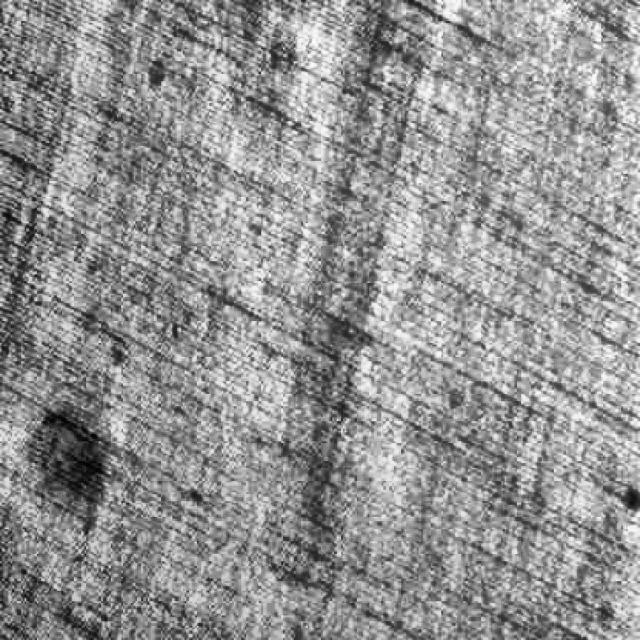oil_spot: (11, 396, 117, 543)
